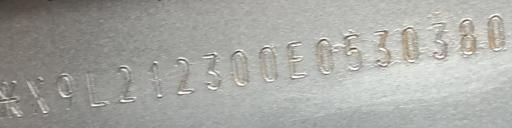letter: (82, 67, 112, 111), (480, 10, 508, 54), (426, 17, 454, 61), (396, 21, 424, 65), (170, 54, 196, 98), (339, 30, 365, 74), (284, 38, 310, 82), (228, 45, 254, 87), (114, 62, 140, 104), (54, 68, 78, 112), (369, 26, 393, 70), (198, 49, 224, 89), (142, 58, 166, 100), (455, 14, 479, 56), (312, 34, 336, 76), (258, 42, 282, 84), (28, 74, 50, 116)
